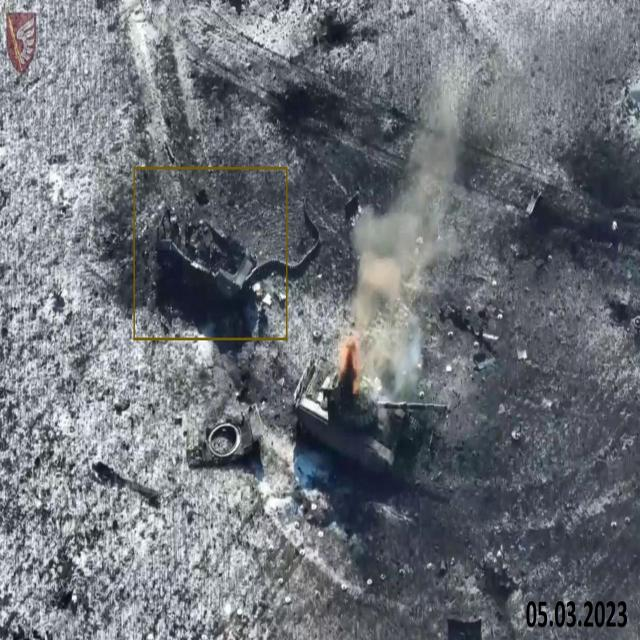destroyed: (292, 356, 423, 480), (156, 208, 258, 298)
